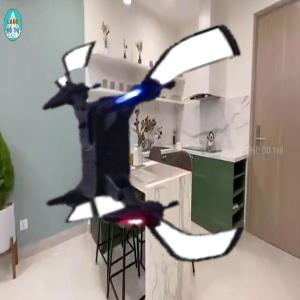drone: (23, 24, 282, 283)
